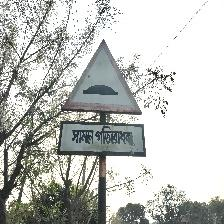Speed-breaker: (59, 39, 145, 156)
